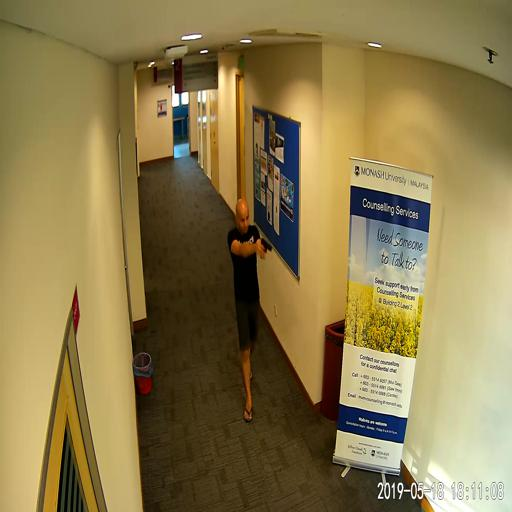pistol: (260, 237, 272, 259)
